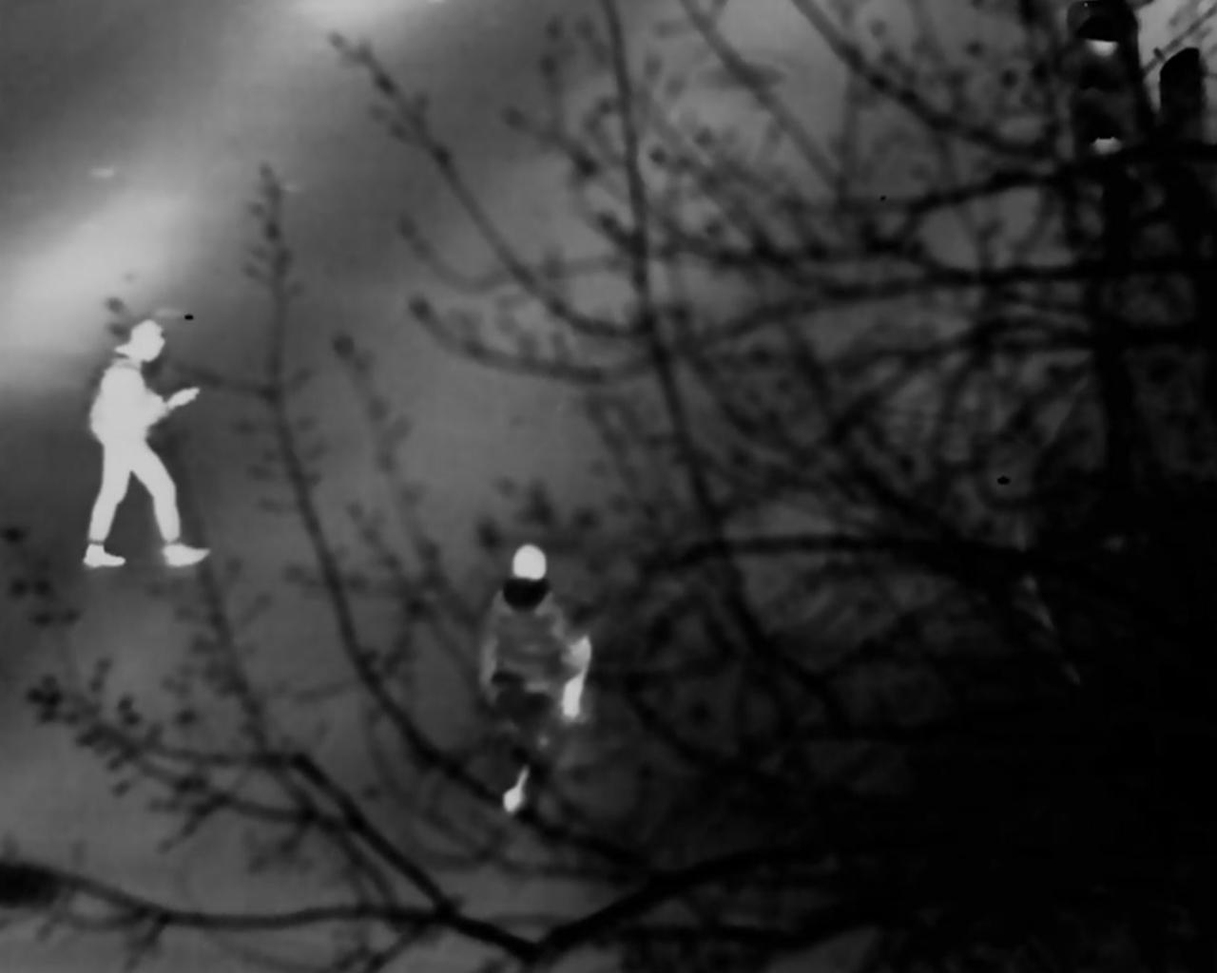person: (75, 319, 207, 568), (487, 544, 593, 758)
